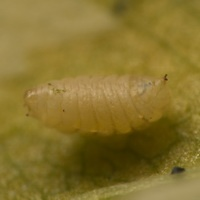insect: (24, 75, 169, 133)
